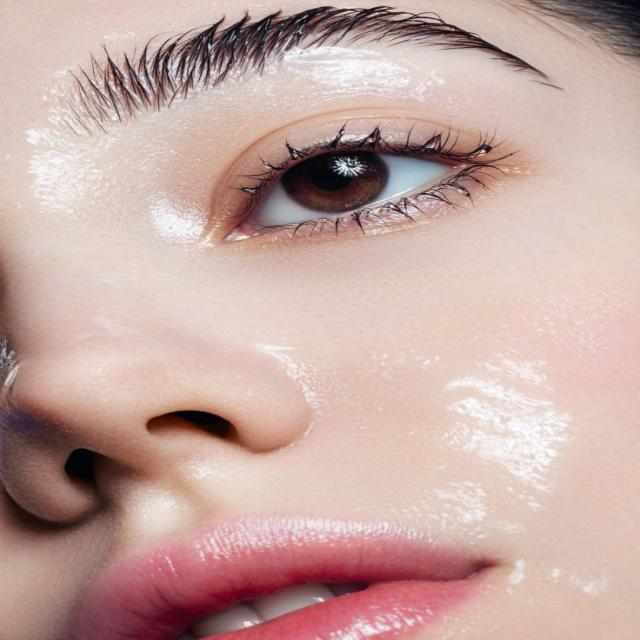Oily-Skin: (456, 372, 587, 486), (288, 43, 473, 109), (242, 341, 376, 431), (27, 101, 108, 210), (152, 186, 230, 275)
